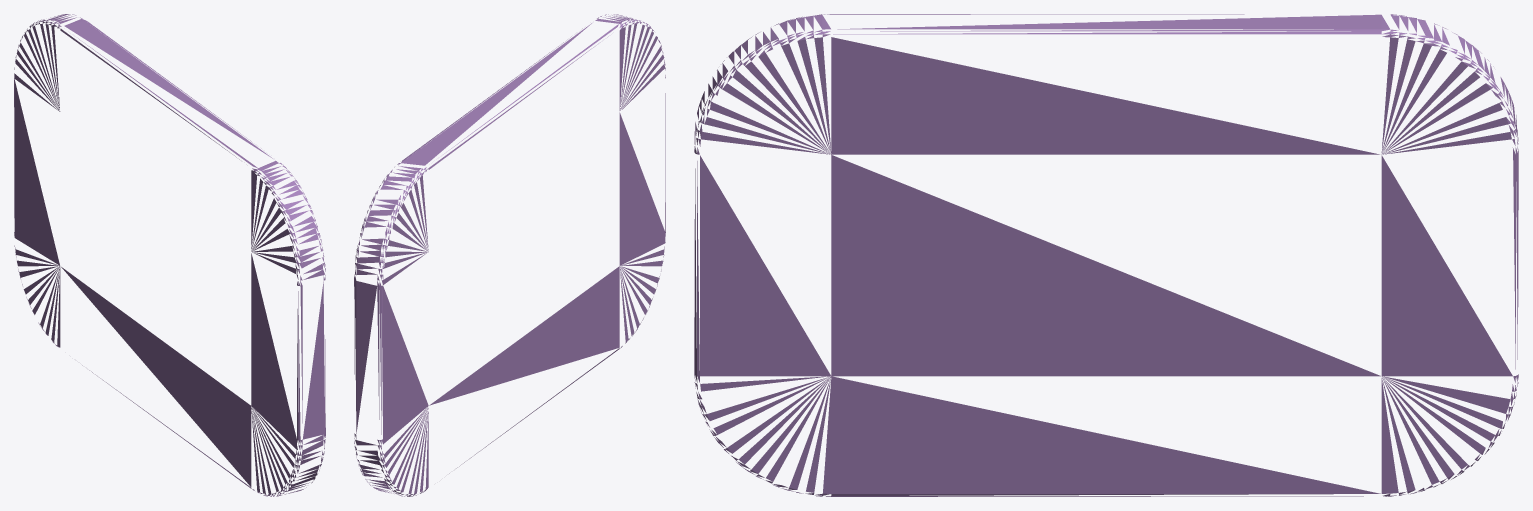
Rendered from kitchenware_cuttingBoard_f01.glb.
3 views of the same model, side by side, from view 1: azimuth 30°, elevation 25°; view 2: azimuth 150°, elevation 25°; view 3: azimuth 270°, elevation 25° (orthographic). The views are drawn at different scales.
Visible parts, largest first — view 1: geometry_0; view 2: geometry_0; view 3: geometry_0.
Part boxes in pixels (left/top/right/bottom): geometry_0: left=14, top=14, right=325, bottom=496; geometry_0: left=354, top=14, right=665, bottom=496; geometry_0: left=694, top=14, right=1518, bottom=496.
Size of the model in its own units: 0.0276 by 0.3 by 0.48.
